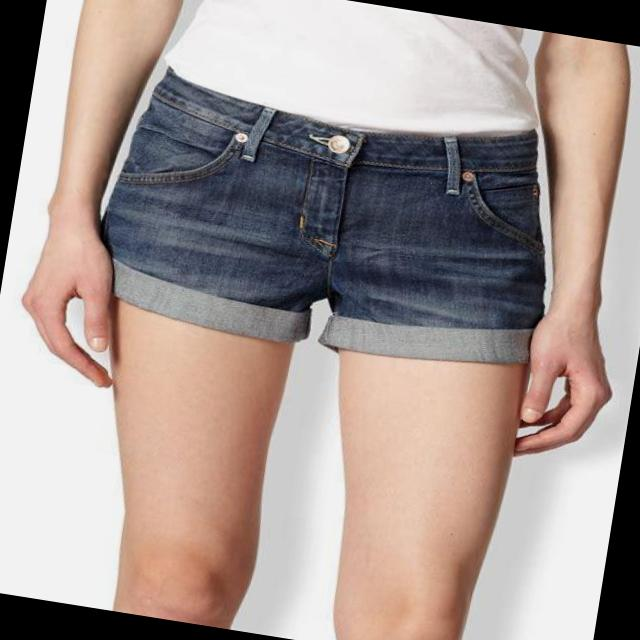short: (83, 66, 568, 381)
